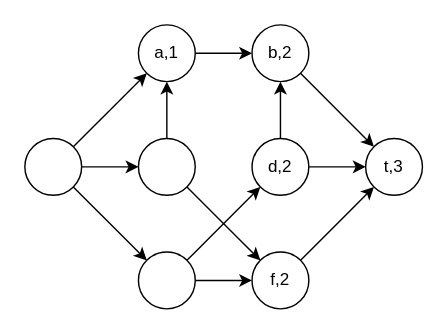
The diagram is 447 pixels wide and 334 high, and some of its shapes have lost their labels. The shapes that lost their labels are listed below. From the top down, each one's centre as x and y in pixels, then its label:
point 52,166: s,0
point 166,166: c,1
point 166,280: e,1
